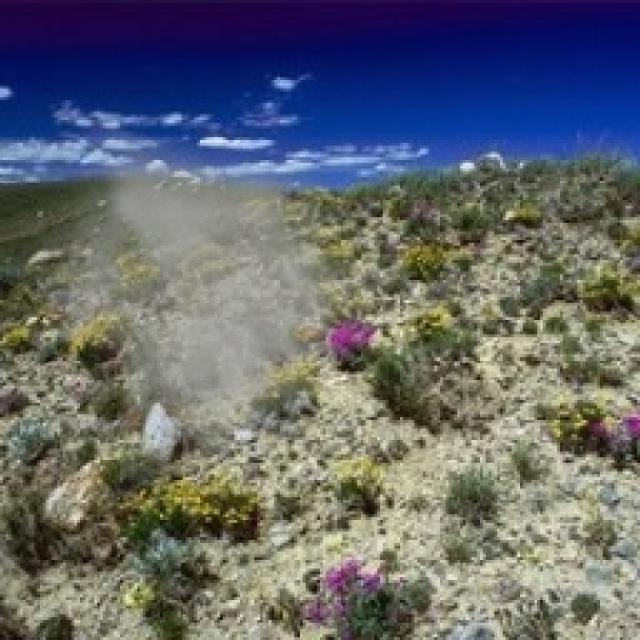smoke: (23, 140, 388, 486)
